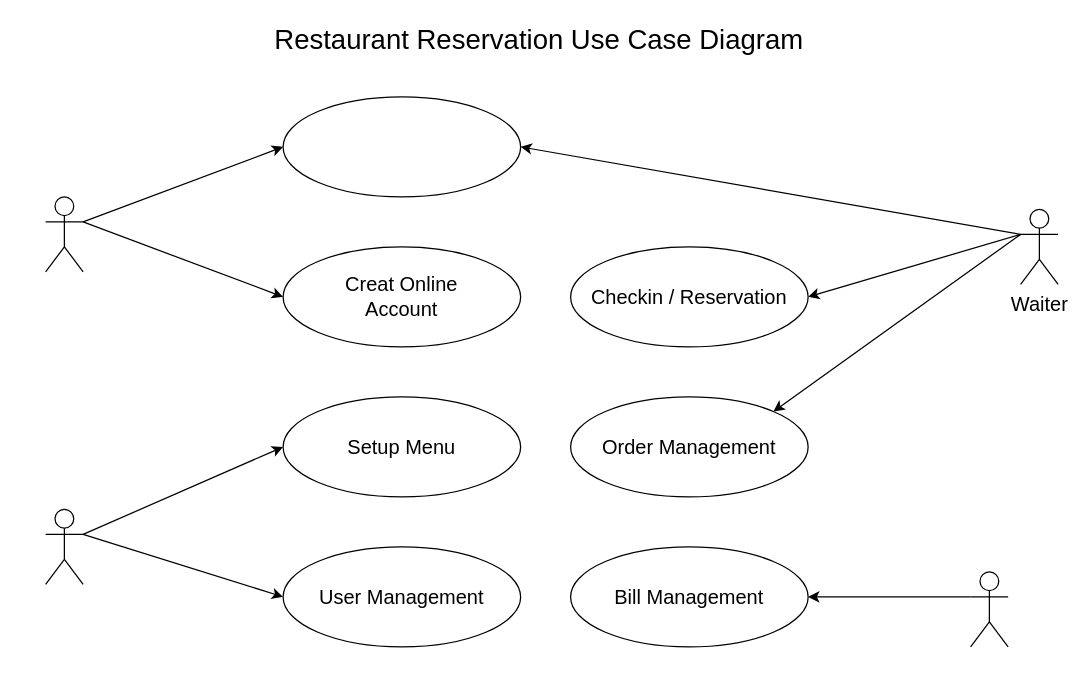
Some shapes in this 1090 by 700 pixel diagram are drawn without their labels. Here are the shapes that lost their labels. From the top down, the centre of each, then its label:
At (x=401, y=146): "Make Reservation".
At (x=63, y=234): "Customer".
At (x=63, y=546): "Admin".
At (x=988, y=609): "Cashier".
